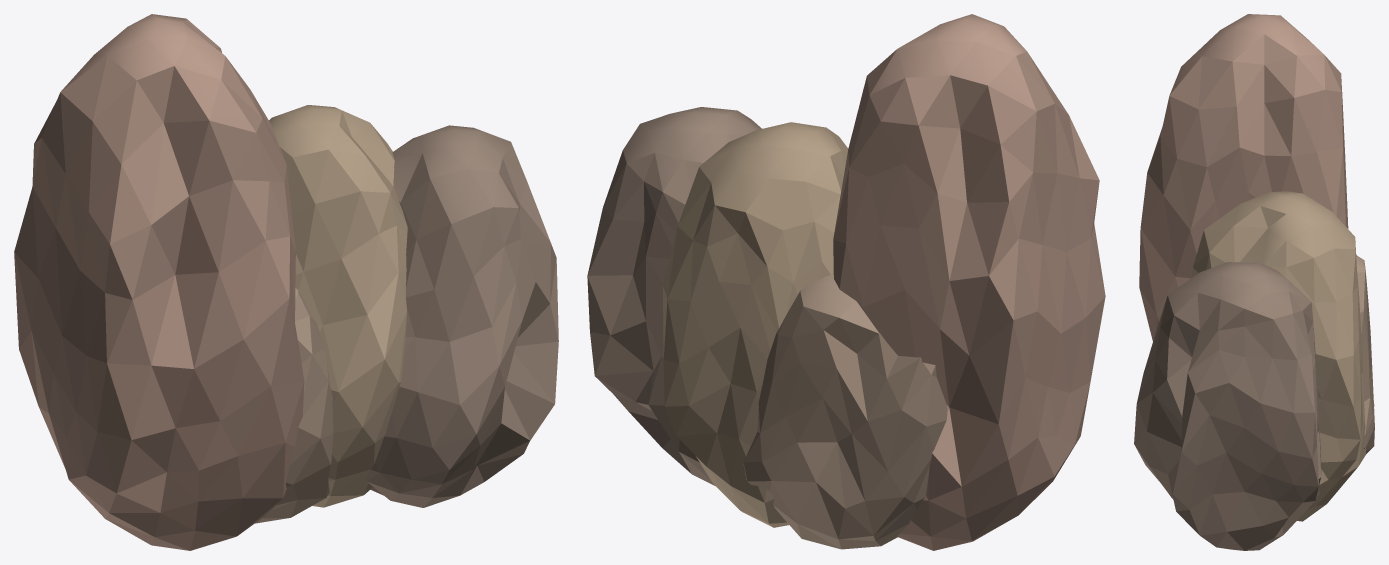
File: Aiguille_4.fbx
3 views of the same model, side by side, from view 1: azimuth 30°, elevation 25°; view 2: azimuth 150°, elevation 25°; view 3: azimuth 270°, elevation 25° (orthographic). The views are drawn at different scales.
Parts seen in each view (by area): view 1: Aiguille_4; view 2: Aiguille_4; view 3: Aiguille_4.
Part boxes in pixels (bbox=[...]): Aiguille_4: bbox=[14, 14, 558, 550]; Aiguille_4: bbox=[587, 14, 1105, 550]; Aiguille_4: bbox=[1134, 14, 1374, 550].
Size of the model in its own units: 278 by 312 by 158.
